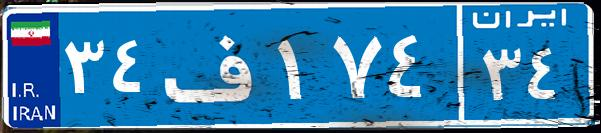1: (273, 28, 330, 110)
3: (57, 26, 110, 107), (475, 38, 525, 113)
4: (385, 28, 445, 110), (110, 28, 158, 105), (525, 38, 570, 115)
7: (330, 28, 385, 110)
ف: (158, 15, 273, 115)
